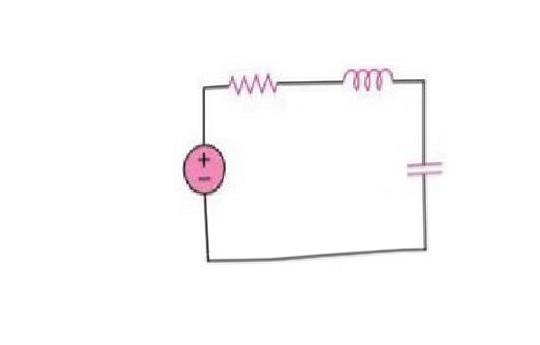Battery: (160, 133, 242, 205)
